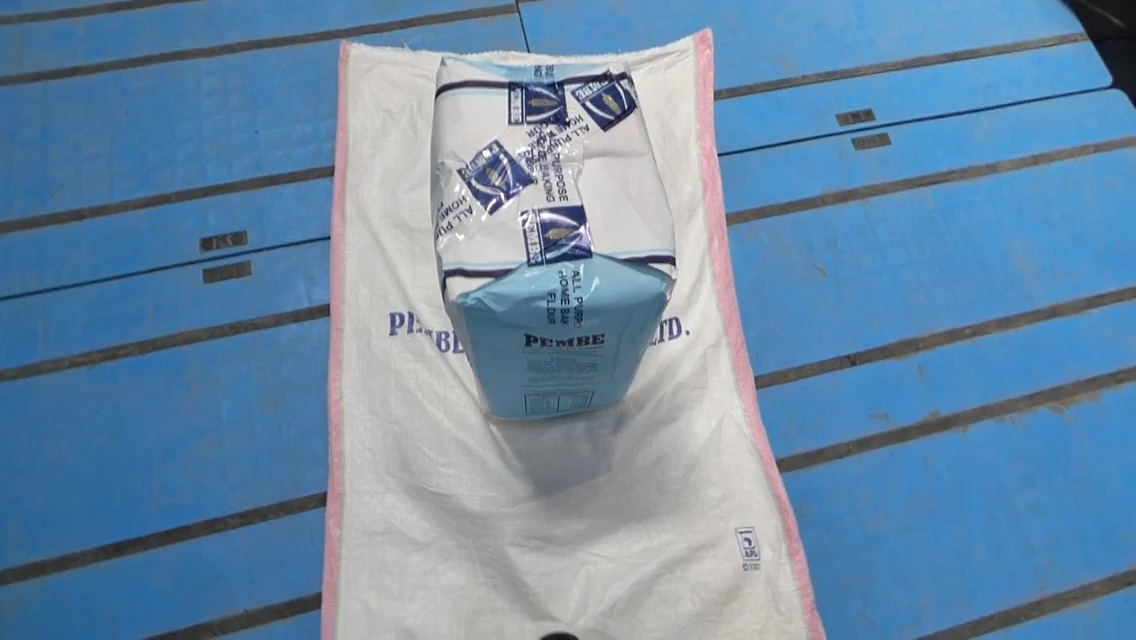wheat_flour_blue_label: (435, 54, 671, 420)
